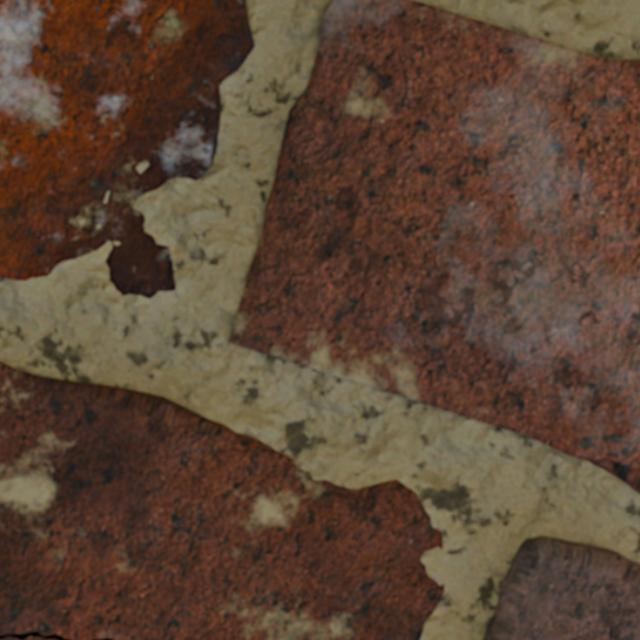brick: (229, 0, 639, 492), (0, 363, 443, 639), (0, 0, 254, 298), (484, 537, 639, 639)
crack: (0, 631, 69, 639), (99, 637, 112, 639)
